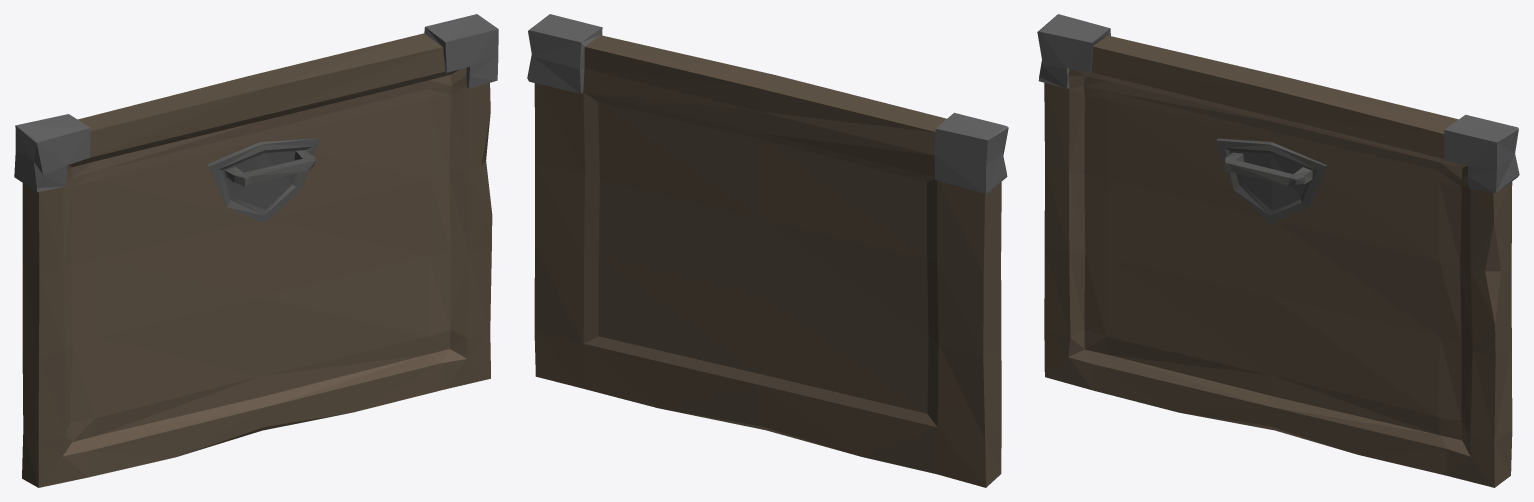
File: SFHW_Shelving_010_Cabinet_003.fbx
3 views of the same model, side by side, from view 1: azimuth 30°, elevation 25°; view 2: azimuth 150°, elevation 25°; view 3: azimuth 330°, elevation 25° (orthographic).
Parts seen in each view (by area): view 1: SFHW_Shelving_010_Cabinet_003; view 2: SFHW_Shelving_010_Cabinet_003; view 3: SFHW_Shelving_010_Cabinet_003.
Part boxes in pixels (bbox=[...]): SFHW_Shelving_010_Cabinet_003: bbox=[14, 14, 498, 487]; SFHW_Shelving_010_Cabinet_003: bbox=[527, 14, 1008, 487]; SFHW_Shelving_010_Cabinet_003: bbox=[1037, 14, 1519, 487].
Bounding box in the file's own units: 85.89 × 62.54 × 10.6.
